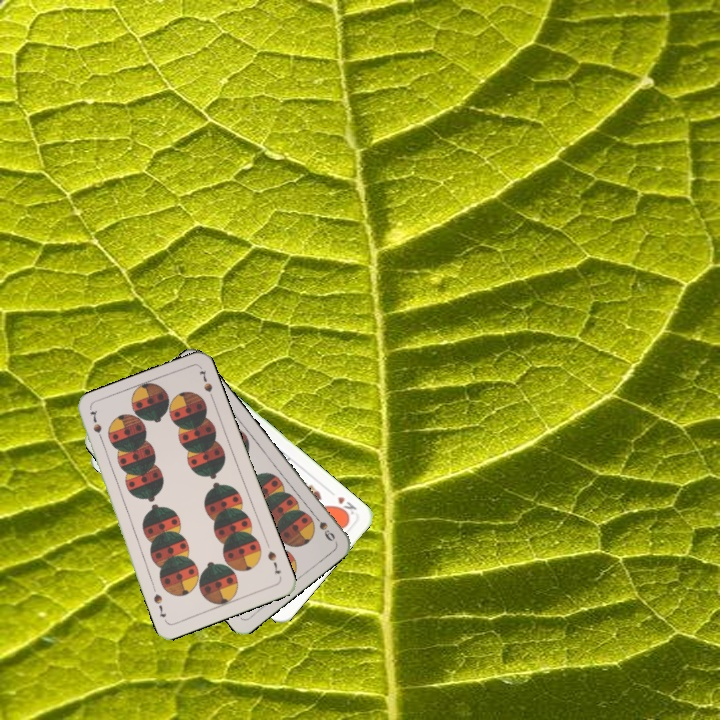HK: (331, 492, 359, 520)
S7: (85, 407, 107, 446), (263, 547, 284, 578)
S9: (308, 509, 338, 544)
